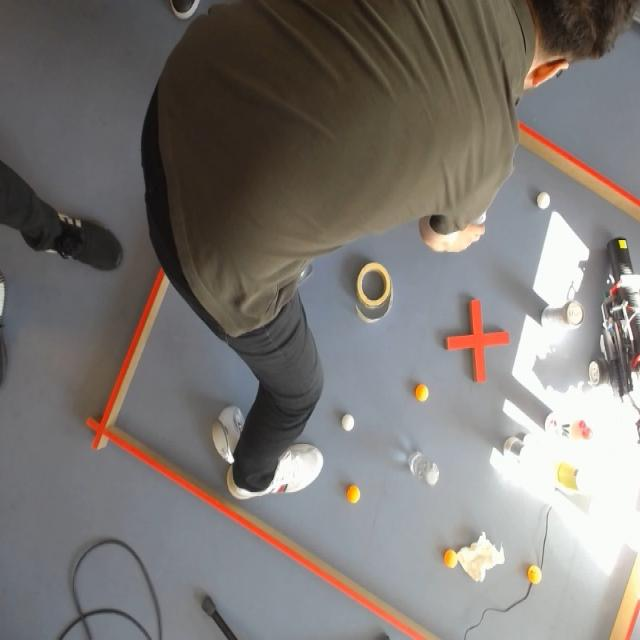orange: (412, 383, 432, 404), (345, 484, 361, 505), (526, 564, 542, 584), (443, 548, 457, 569)
robot: (588, 237, 640, 440)
robot-front: (616, 238, 629, 252)
white: (339, 411, 356, 434), (537, 192, 550, 209)
